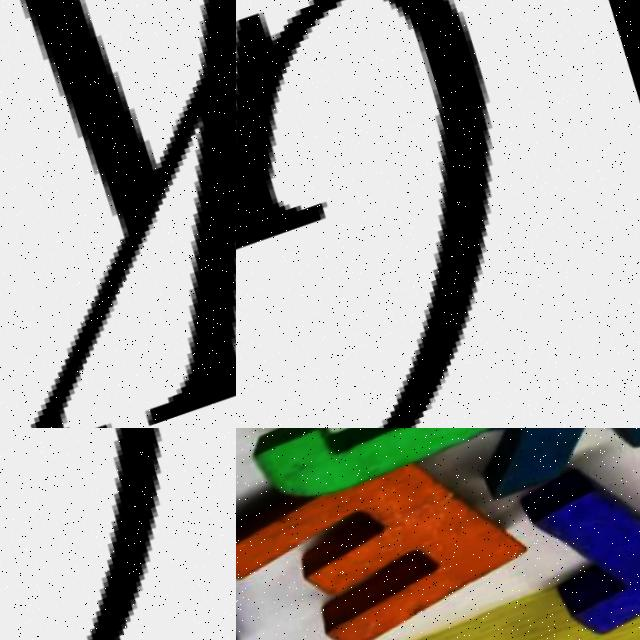C: (236, 428, 534, 521)
E: (236, 433, 535, 640)
G: (236, 0, 624, 428)
K: (0, 0, 236, 428), (418, 428, 640, 510)
Q: (0, 428, 236, 640)
T: (501, 428, 640, 640)
